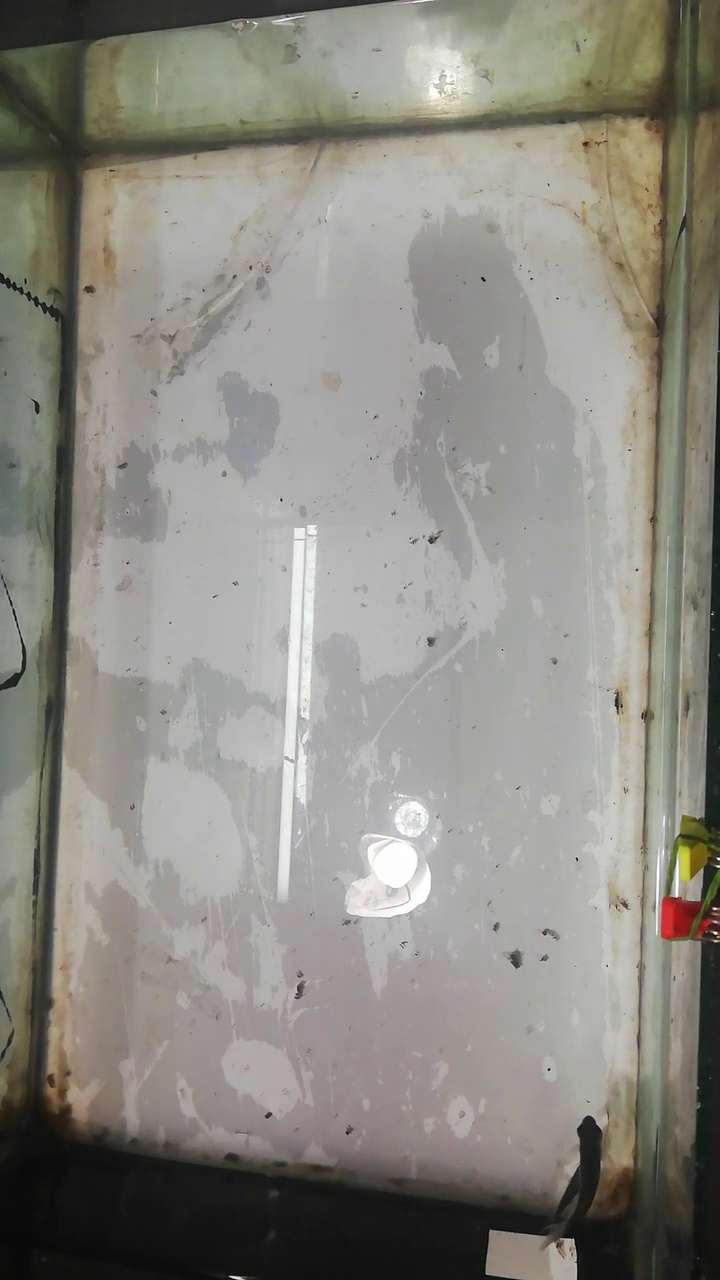fish1: (565, 1112, 604, 1245)
fish2: (558, 1154, 590, 1231)
